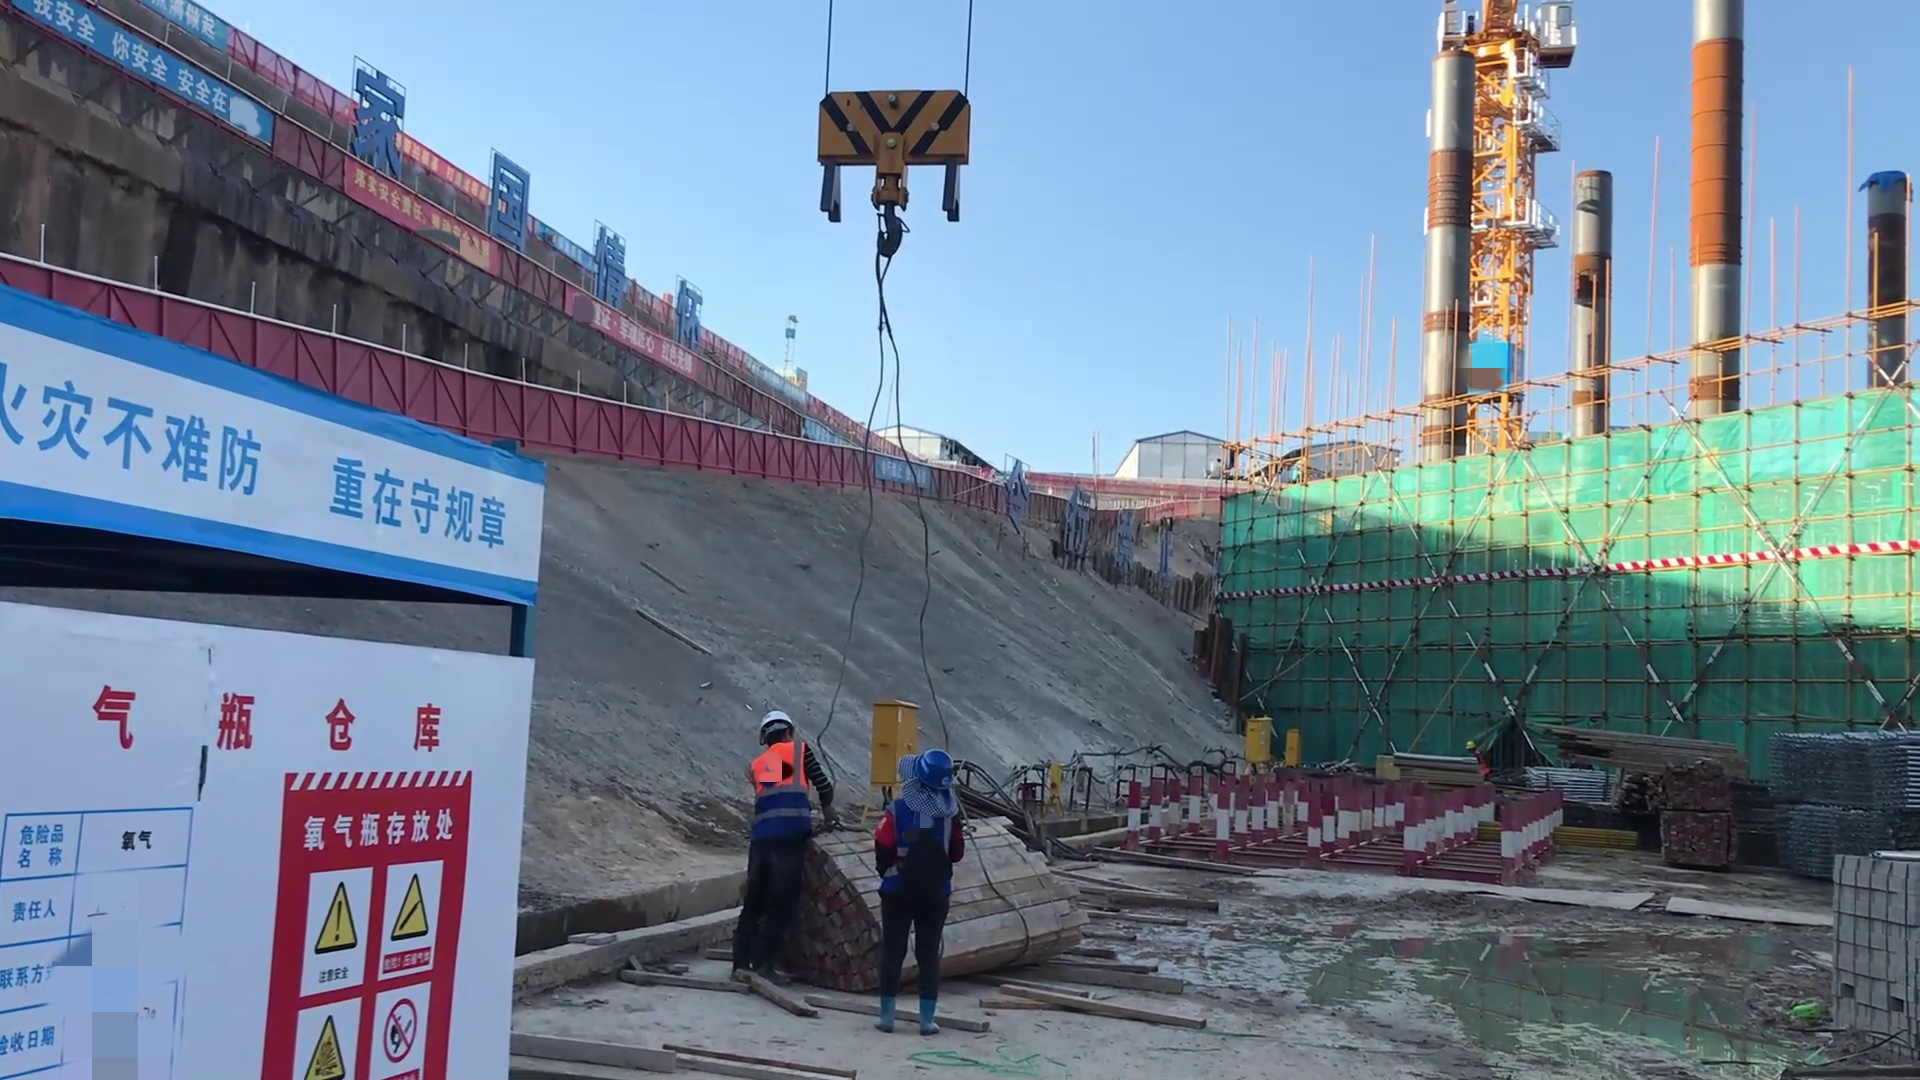brick: (1825, 830, 1920, 1060)
ebox: (863, 696, 920, 774), (1244, 717, 1274, 775), (1281, 729, 1298, 765)
fence: (544, 396, 762, 474), (766, 433, 880, 486)
helmet: (901, 746, 958, 786), (765, 707, 793, 740)
hook: (814, 80, 972, 227)
person: (730, 710, 824, 977), (879, 750, 951, 1035), (1461, 740, 1490, 776)
scaffold: (1780, 726, 1920, 816)
slogan: (1, 358, 506, 552), (273, 827, 449, 1074), (33, 1, 245, 134), (338, 146, 528, 292)
vest: (746, 738, 801, 791)
wood: (944, 822, 1108, 983), (1073, 853, 1206, 1045), (1529, 711, 1748, 811)
